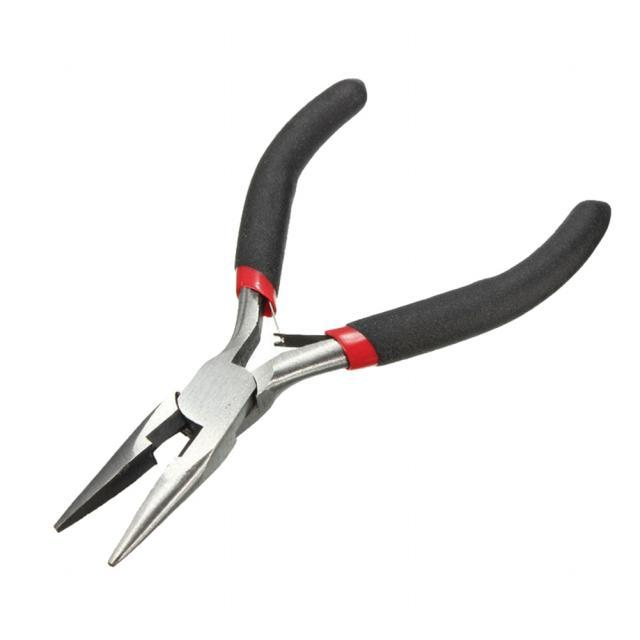pliers: (45, 70, 619, 571)
